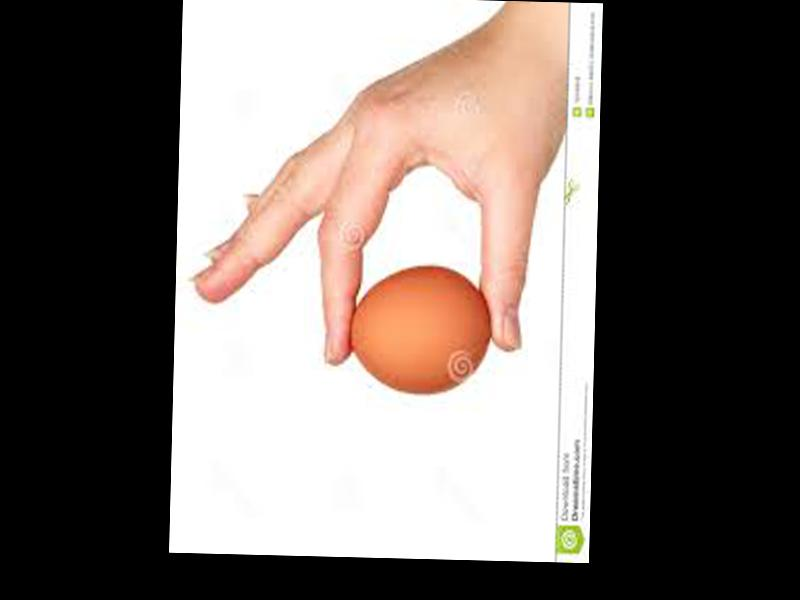Eggs: (348, 261, 494, 397)
